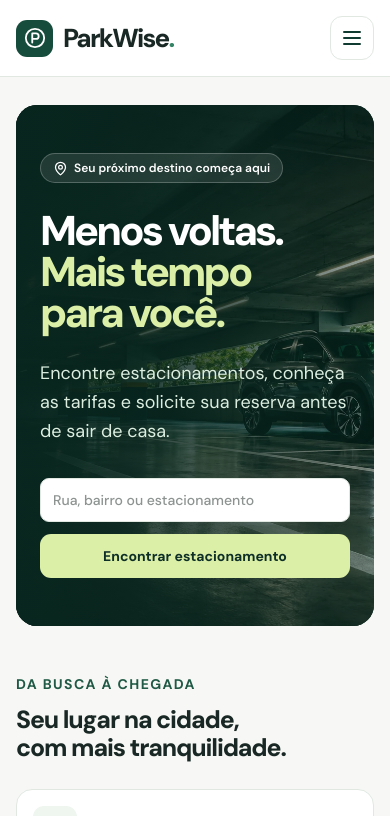
Test case: menu mobile informa abertura e fecha ao navegar
Click the button named "Abrir menu" at (352, 38), box [330,16,374,60]
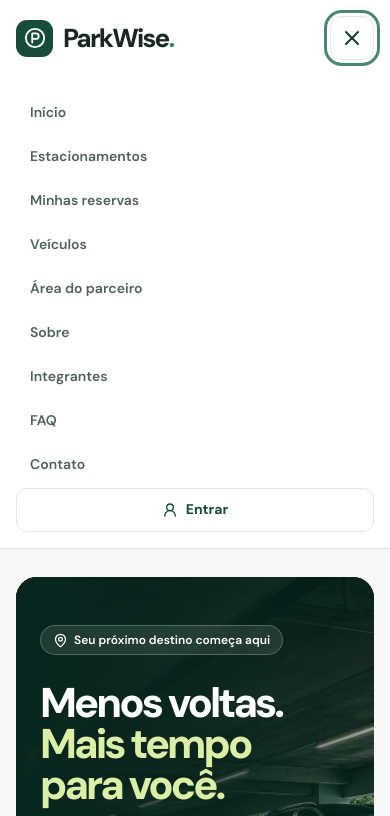
expect the button named "Fechar menu" is expanded: met, box [330,16,374,60]
Click the link to "/sobre" at (50, 332), box [30,323,70,341]
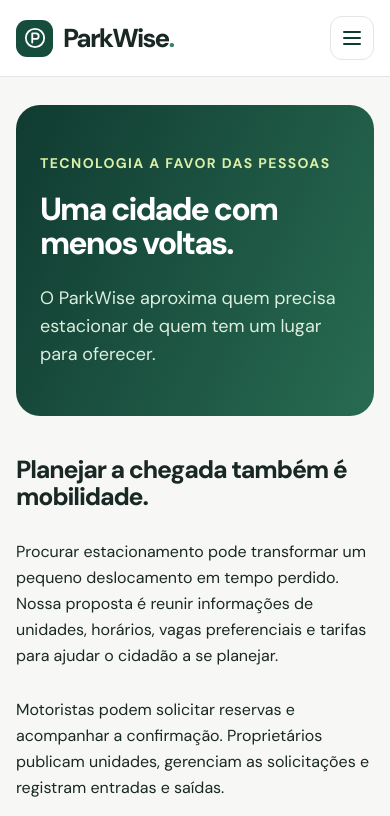
expect the 1st heading shows "Uma cidade com": met, box [40,188,277,230]
